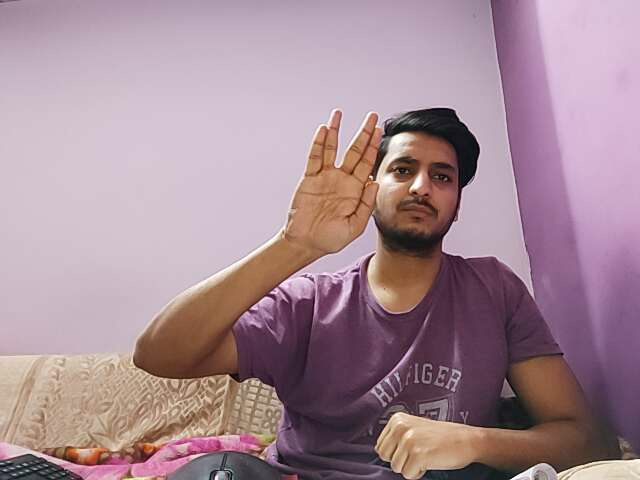LiveLong: (282, 104, 380, 279)
